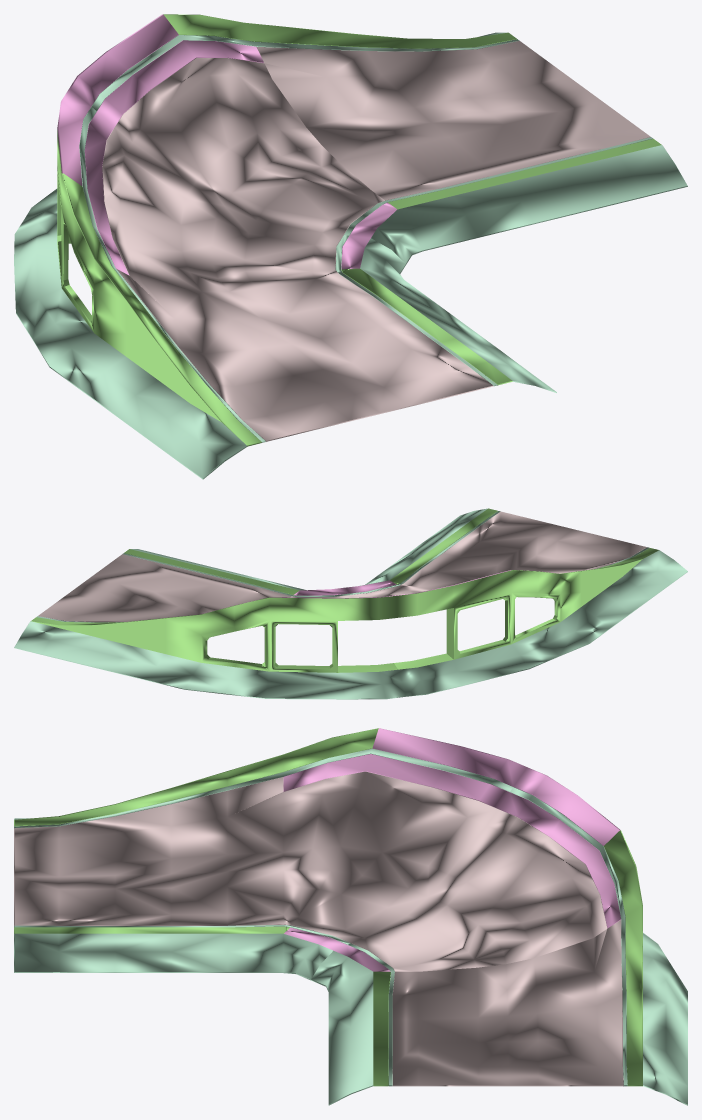
File: RaceTrack_grunge_discount_prop_uee_14.glb
3 views of the same model, one above another, from view 1: azimuth 30°, elevation 25°; view 2: azimuth 150°, elevation 25°; view 3: azimuth 270°, elevation 25° (orthographic). The views are drawn at different scales.
Size of the model in its own units: 15 by 2.98 by 15.
